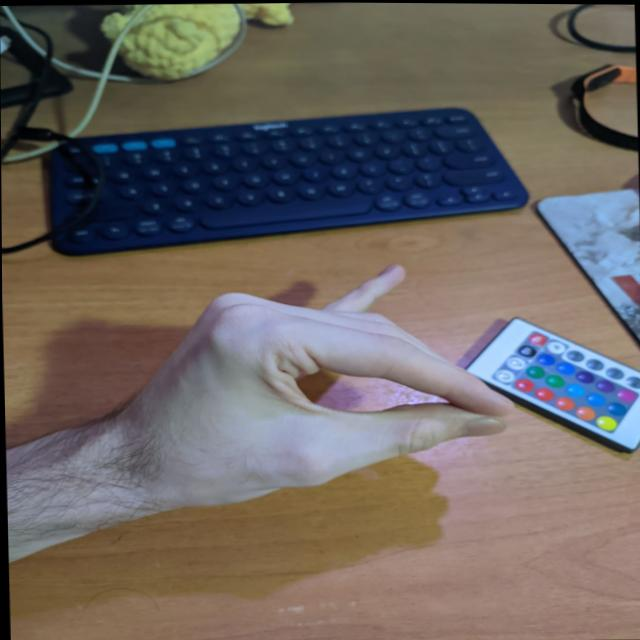iu: (132, 252, 514, 521)
